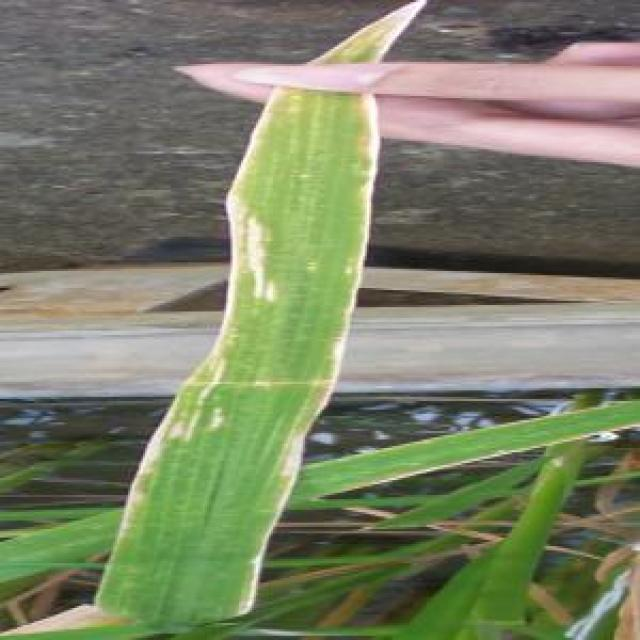Bacterial_Blight: (237, 342, 354, 614), (117, 362, 233, 528), (342, 92, 390, 308), (310, 0, 440, 60), (228, 88, 282, 208), (223, 212, 287, 308)
